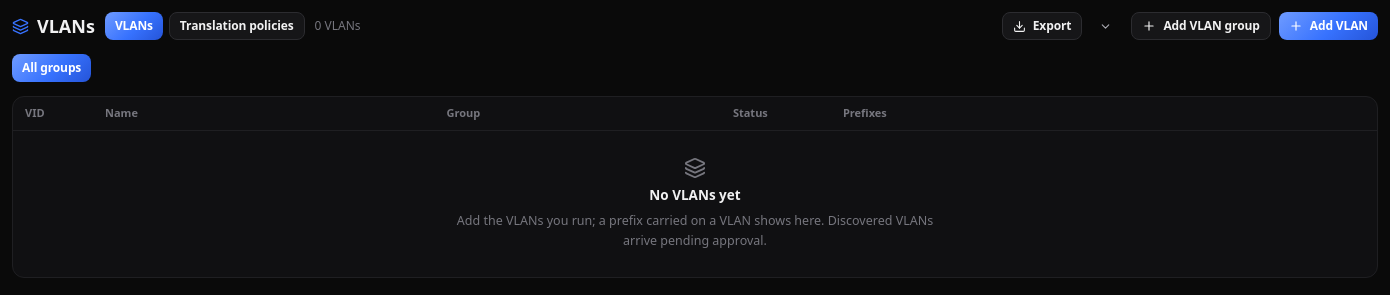
Test case: Inventory → VLANs → Translation policies › is a view of the VLANs lens, reached by its toggle (default)
The width and height of the screenshot is (1390, 295).
Click the tab with test id "vlans-view-translation".
click(237, 26)  # box [169,12,305,40]
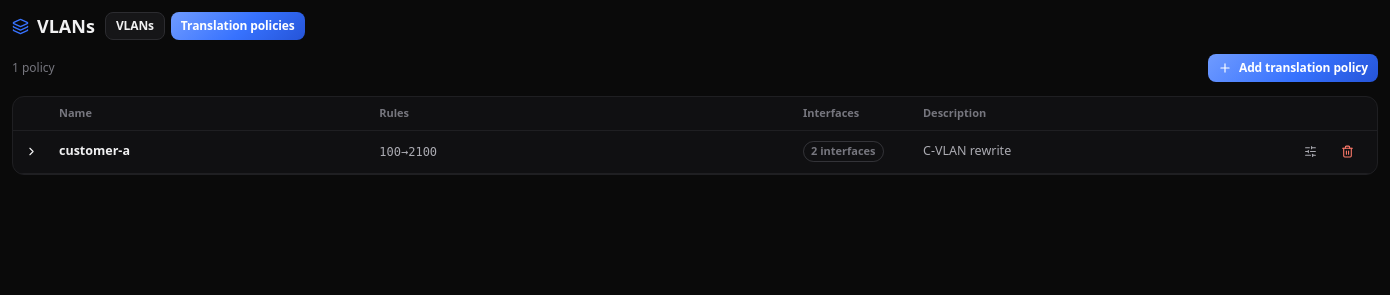
Expected: the element with test id "vlan-translation-view" is shown, [12,54,1378,174]
Expected: the button with test id "vlan-translation-policy-row" shows "customer-a", [13,130,1377,174]
Expected: the button with test id "vlan-translation-policy-row" shows "100→2100", [13,130,1377,174]
